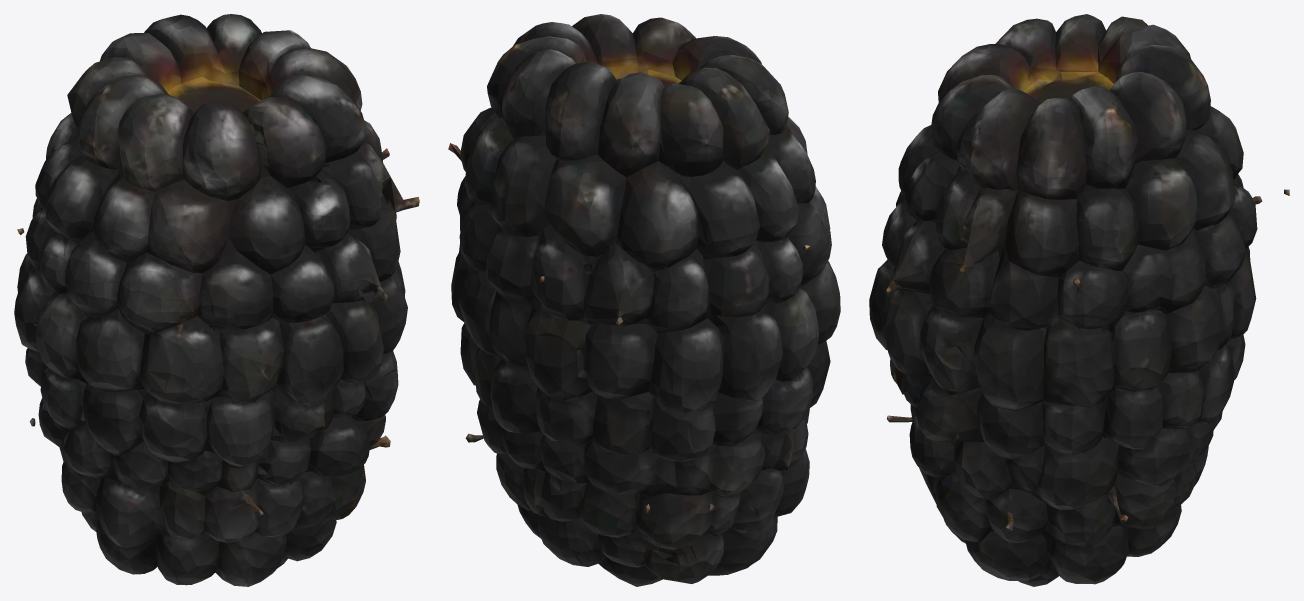
File: blackberry.glb
3 views of the same model, side by side, from view 1: azimuth 30°, elevation 25°; view 2: azimuth 150°, elevation 25°; view 3: azimuth 270°, elevation 25° (orthographic). The views are drawn at different scales.
Parts seen in each view (by area): view 1: geometry_0; view 2: geometry_0; view 3: geometry_0.
Part boxes in pixels (left/top/right/bottom): geometry_0: left=14, top=14, right=419, bottom=586; geometry_0: left=448, top=14, right=840, bottom=586; geometry_0: left=869, top=14, right=1289, bottom=586.
Bounding box in the file's own units: 0.7023 × 0.9684 × 0.6963.
1 material, 1 textured.
